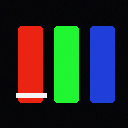3 line_h: (16, 93, 46, 97)
